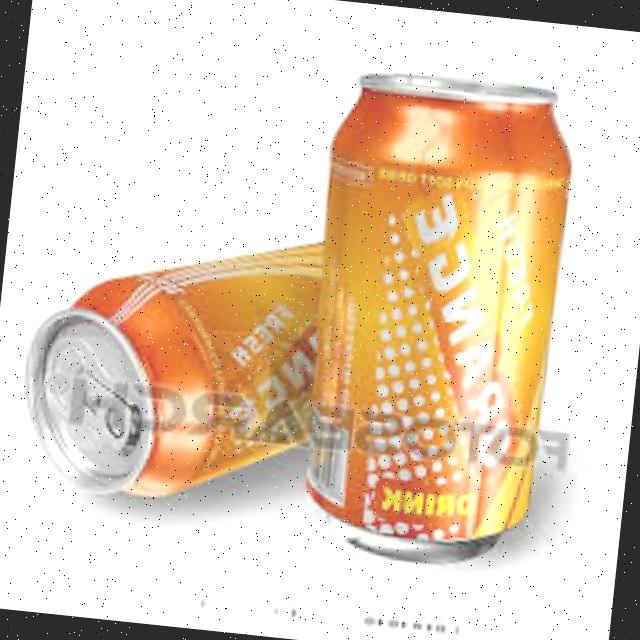Metal: (290, 59, 580, 574), (10, 210, 322, 512)
